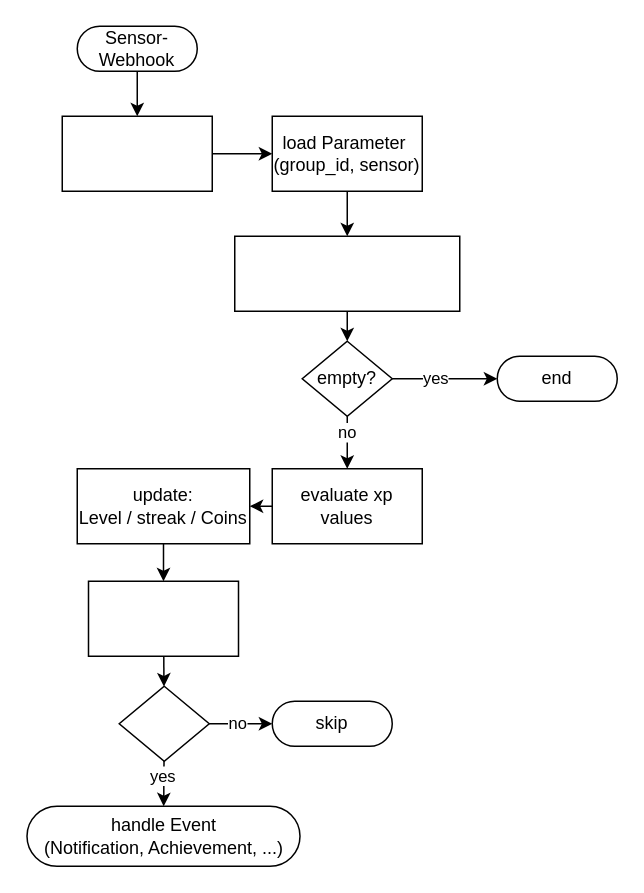
This 644x893 diagram has some shape labels left out. The shapes that lost their labels are listed below. From the top down, each one's box as (x1, y1, x2, y2) in pixels, then its label:
(61, 115, 212, 191): start Sensor-Job
(233, 235, 460, 311): load all new Datapoints (after groups.last_activity)
(87, 580, 238, 656): load Trigger & check Trigger
(118, 685, 209, 761): activ?
